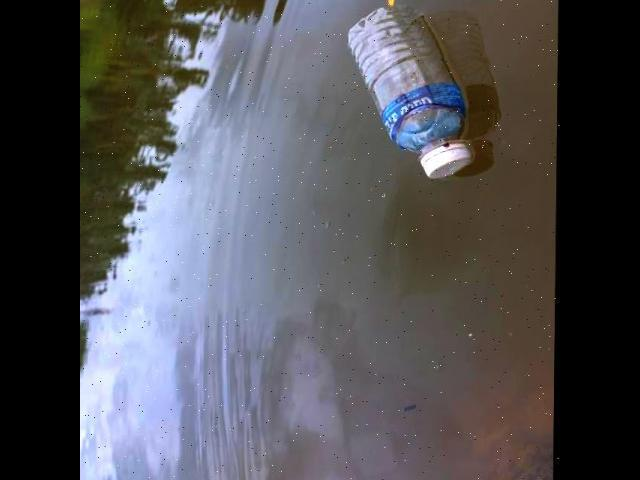Bottle: (342, 2, 476, 184)
